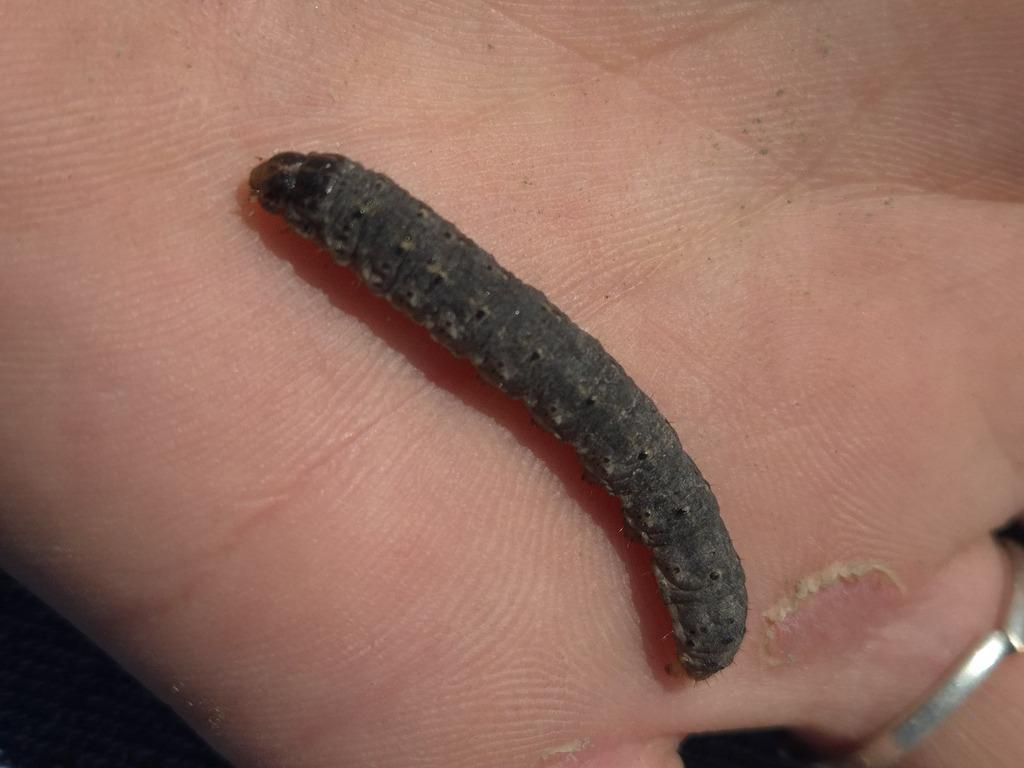caterpillars: (179, 76, 937, 736)
